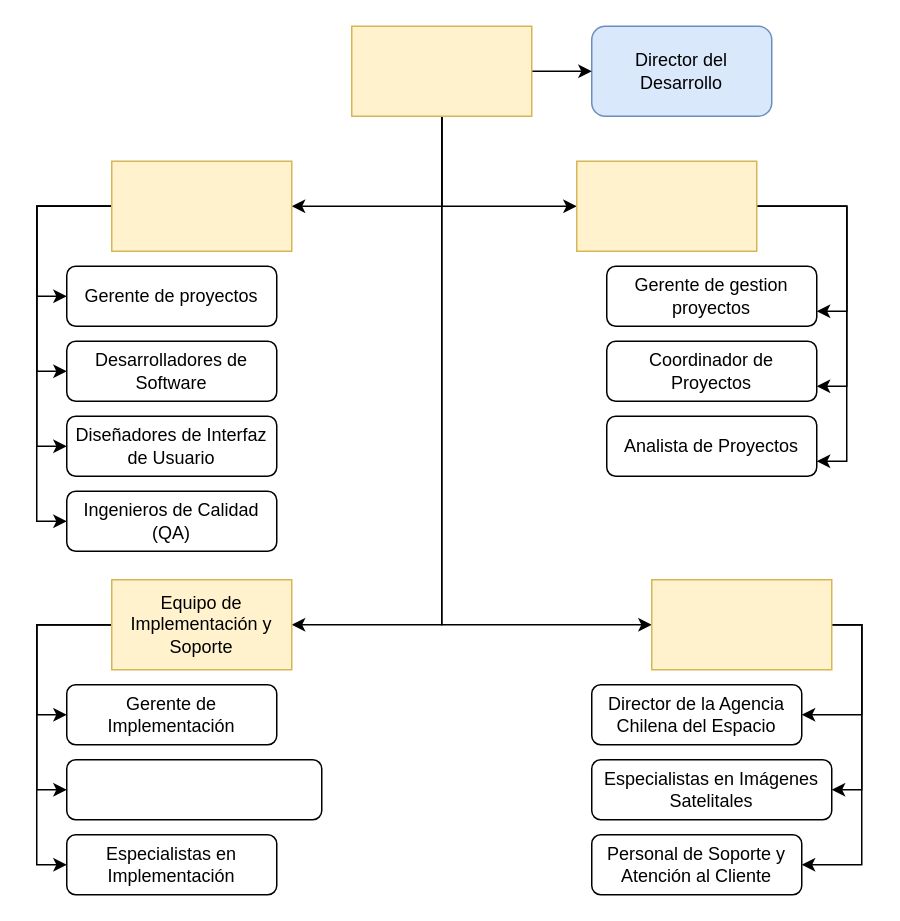
Image size: 900x921. Some labels were removed from this diagram. The centre of each missing label's shape, as x and y in pixels:
Dirección de Desarrollo: point (441, 70)
Equipo de Desarrollo de Software: point (201, 205)
Equipo de Gestión de Imágenes Satelitales: point (741, 624)
Equipo de Gestión de Proyectos: point (666, 205)
Especialistas en Capacitación y Entrenamiento: point (193, 789)
